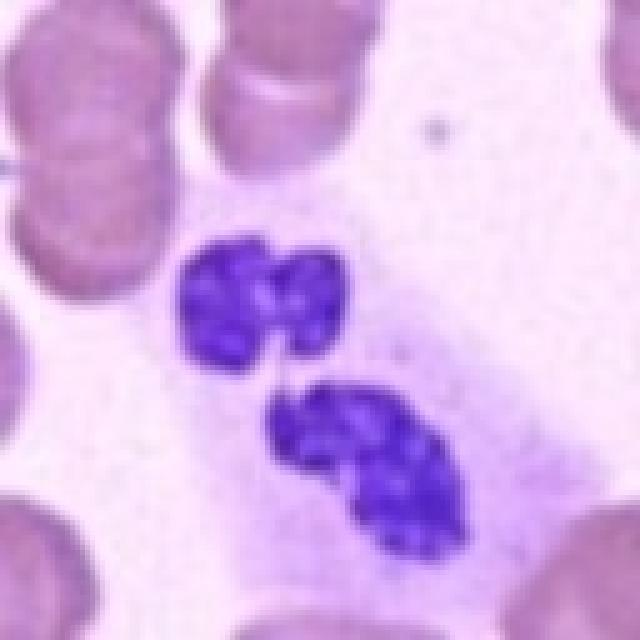neutro: (112, 112, 534, 512)
